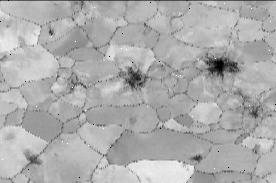good_void: (198, 55, 242, 77), (57, 69, 91, 97), (117, 65, 144, 92), (22, 144, 46, 168), (245, 104, 261, 121), (190, 150, 207, 166), (46, 25, 60, 39), (250, 142, 264, 155), (126, 112, 138, 126)
